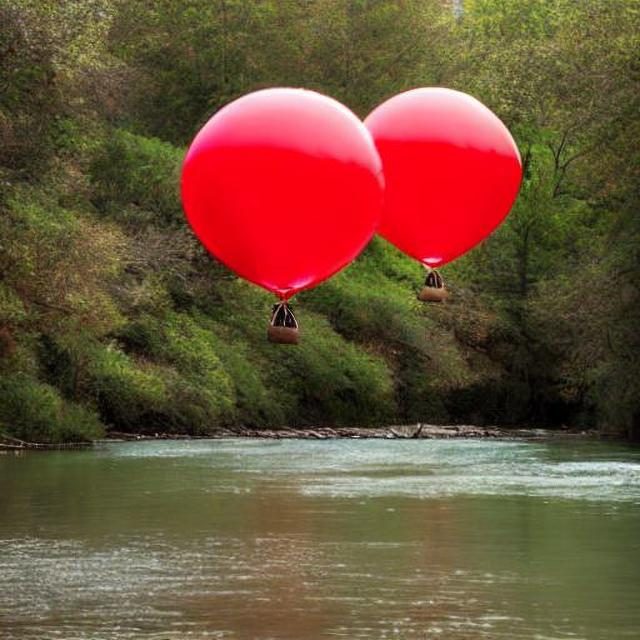balloon: (168, 77, 521, 328)
